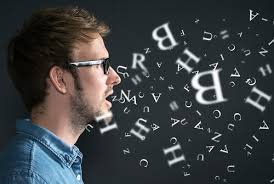person: (6, 6, 123, 175)
